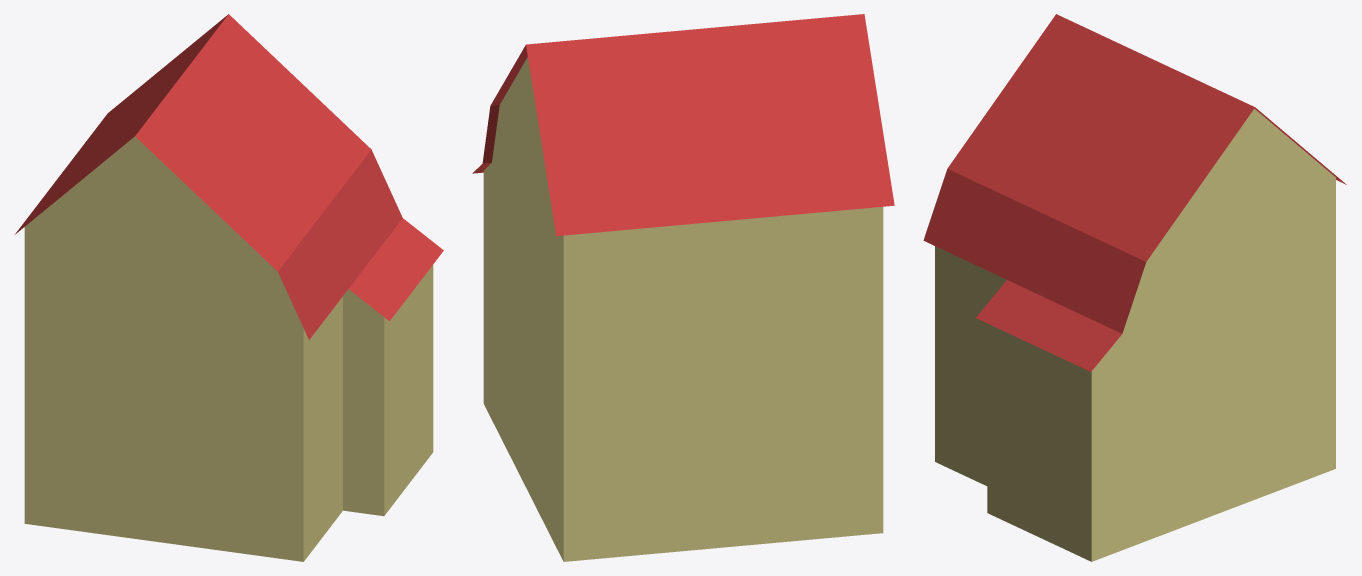
3 renders of one model, left to right at view 1: azimuth 30°, elevation 25°; view 2: azimuth 150°, elevation 25°; view 3: azimuth 270°, elevation 25°, orthographic. The views are drawn at different scales.
Size of the model in its own units: 13.72 by 12.87 by 13.3.
